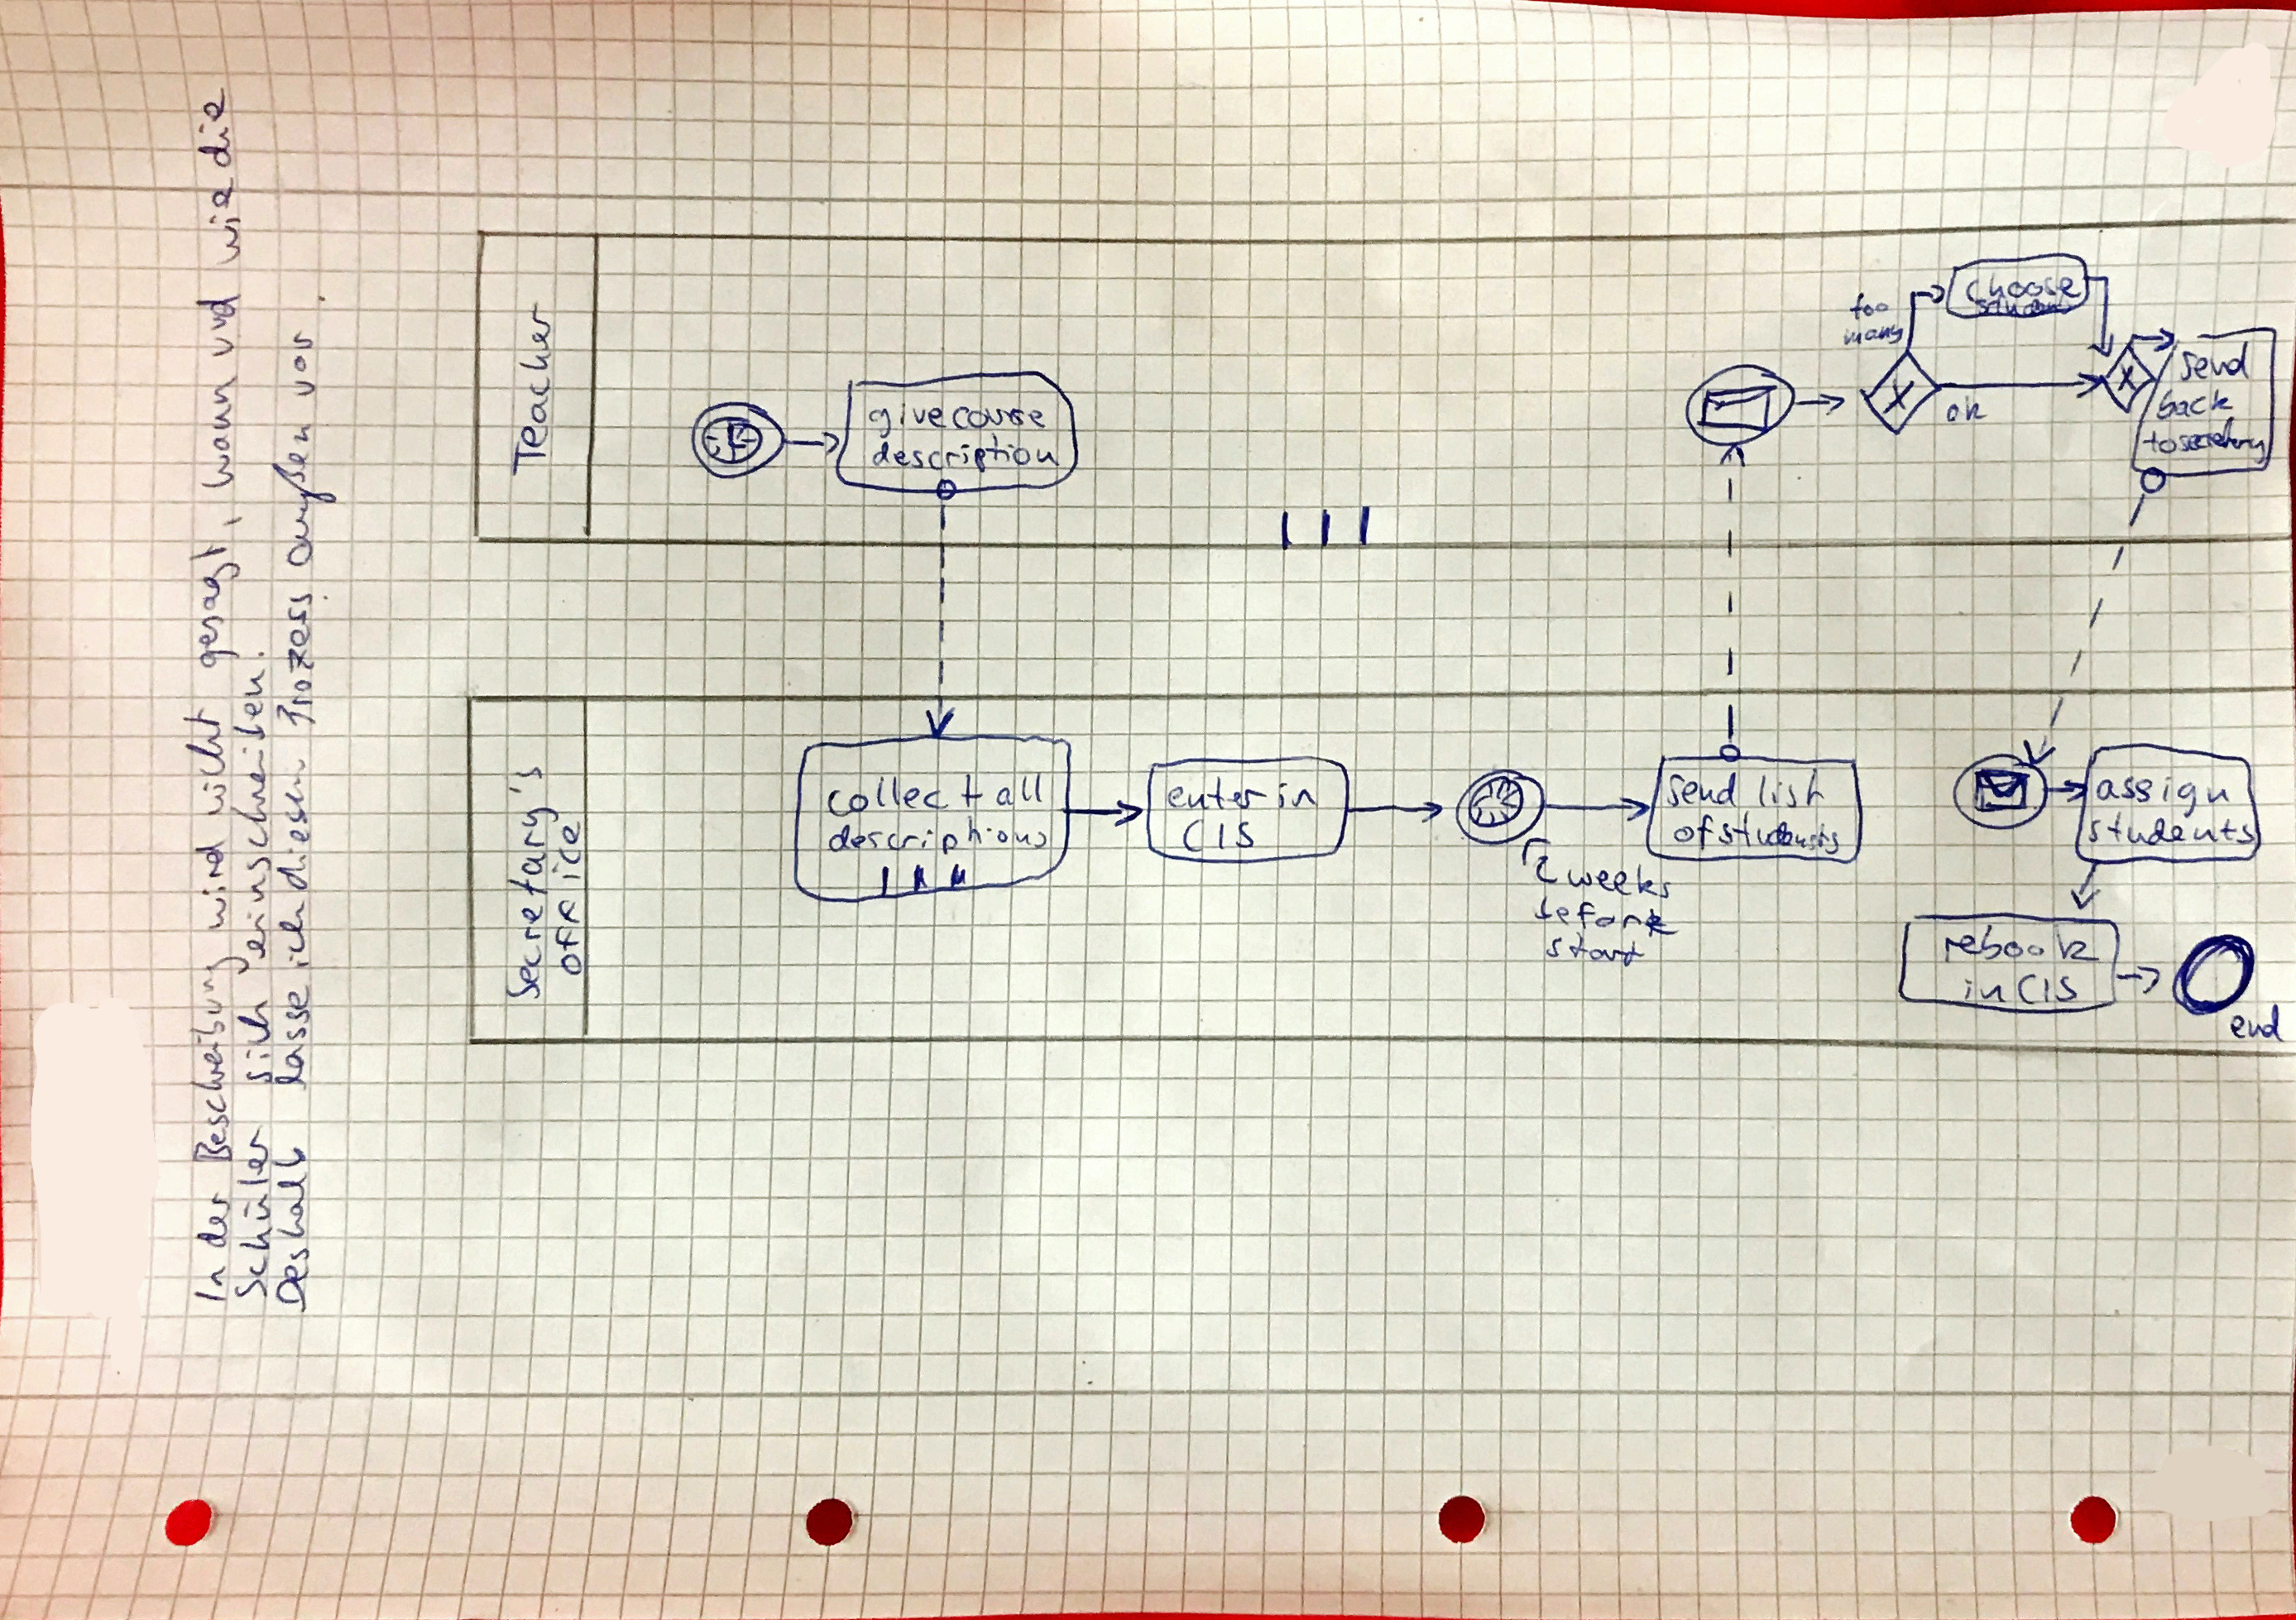2: (1536, 852, 1558, 886)
Beschreibung: (190, 955, 247, 1164)
CIS: (2016, 970, 2078, 1012), (1182, 820, 1253, 851)
Deshalb: (271, 1148, 309, 1313)
III: (1281, 501, 1371, 549), (880, 865, 969, 898)
In: (189, 1265, 231, 1304)
Prozess: (269, 593, 316, 726)
Schüler: (232, 1126, 270, 1297)
Secretary's: (506, 764, 558, 1003)
Teacher: (512, 304, 557, 478)
all: (995, 771, 1045, 807)
assign: (2096, 772, 2229, 817)
außen: (273, 426, 338, 567)
back: (2157, 386, 2230, 421)
before: (1536, 894, 1676, 936)
choose: (1965, 275, 2080, 301)
collect: (823, 773, 985, 816)
course: (951, 402, 1044, 435)
der: (197, 1192, 229, 1249)
description: (871, 439, 1061, 472)
descriptions: (829, 818, 1048, 851)
die: (194, 85, 235, 168)
diesem: (276, 757, 310, 889)
einschreiben.: (231, 645, 271, 961)
end: (2229, 1004, 2285, 1044)
enter: (1168, 779, 1268, 810)
gesagt,: (193, 516, 242, 668)
give: (866, 402, 947, 436)
ich: (278, 902, 309, 971)
in: (1959, 979, 2008, 1005), (1277, 783, 1316, 809)
kann: (192, 378, 239, 490)
lasse: (274, 985, 314, 1090)
list: (1757, 771, 1823, 808)
many: (1842, 324, 1906, 348)
nicht: (180, 705, 226, 817)
of: (1676, 814, 1714, 853)
office: (550, 822, 587, 973)
ok: (1948, 392, 1986, 424)
rebook: (1942, 924, 2100, 963)
secretary: (2179, 417, 2270, 463)
send: (2175, 343, 2252, 381), (1664, 774, 1739, 809)
sich: (234, 997, 276, 1086)
start: (1546, 934, 1644, 966)
students: (2087, 814, 2255, 850), (1715, 813, 1846, 858), (1977, 295, 2073, 319)
to: (2144, 431, 2178, 454)
too: (1848, 287, 1899, 324)
und: (194, 290, 240, 356)
vor.: (284, 295, 327, 400)
weeks: (1566, 864, 1671, 900)
wie: (205, 176, 243, 265)
wird: (193, 842, 237, 930)
